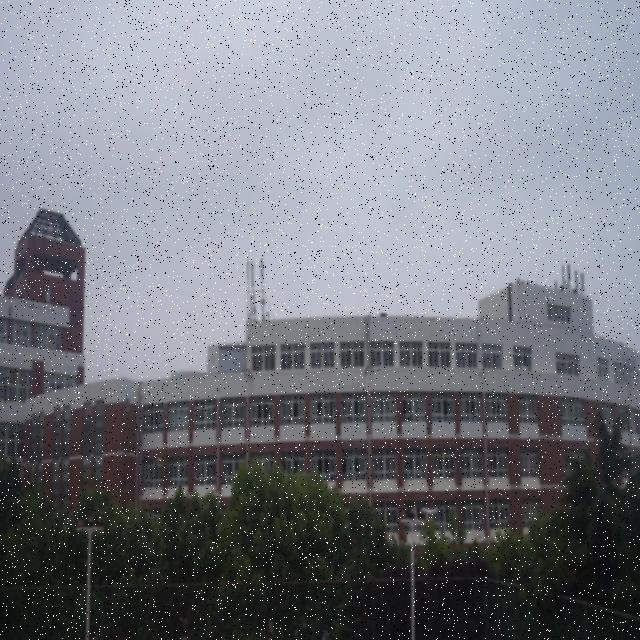UAV: (421, 508, 438, 521)
